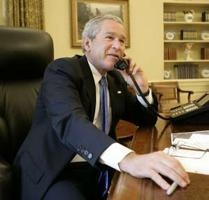person without safety: (16, 15, 153, 129)
